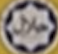halal: (6, 4, 53, 48)
